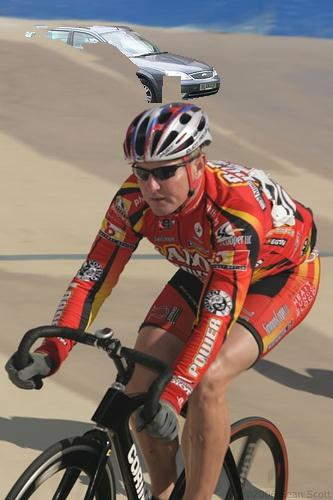tampered: (26, 26, 220, 103)
